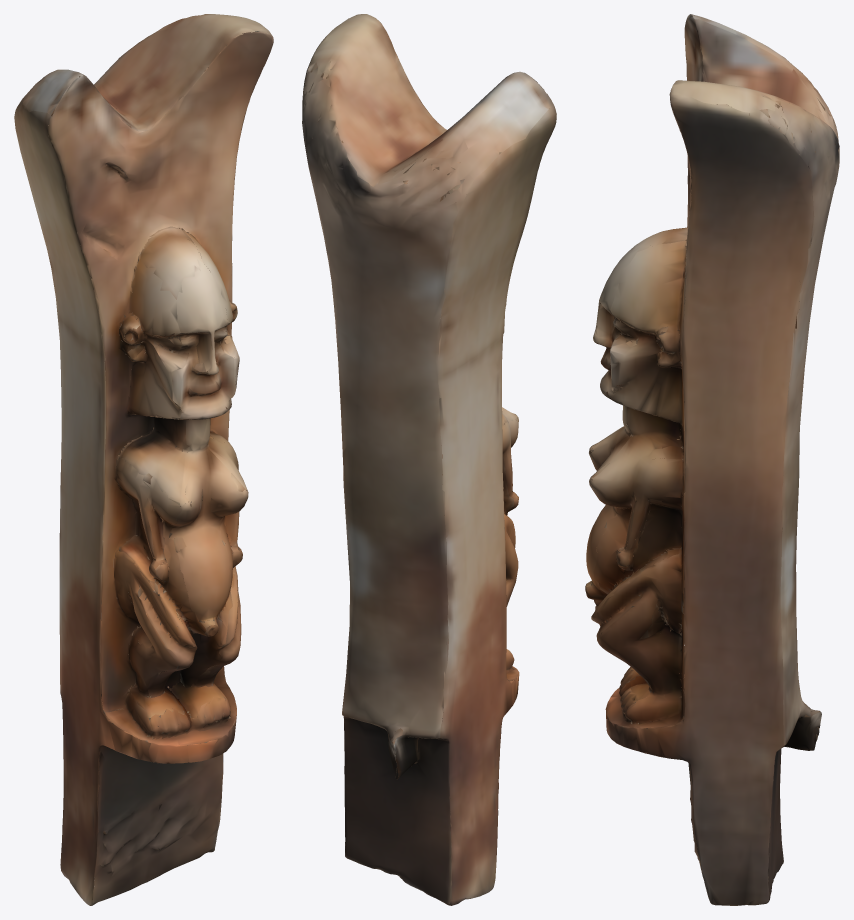
File: pilier_5.glb
The picture shows the model from 3 angles, left to right: view 1: azimuth 30°, elevation 25°; view 2: azimuth 150°, elevation 25°; view 3: azimuth 270°, elevation 25°; orthographic projection. The views are drawn at different scales.
Visible parts, largest first — view 1: Mesh_0; view 2: Mesh_0; view 3: Mesh_0.
Boxes of the visible parts, x1,y1,x2,y2 form: Mesh_0: (14, 14, 273, 905); Mesh_0: (302, 14, 556, 905); Mesh_0: (585, 14, 839, 905).
Bounding box in the file's own units: 0.3309 × 1.2 × 0.3248.
1 material, 1 textured.
